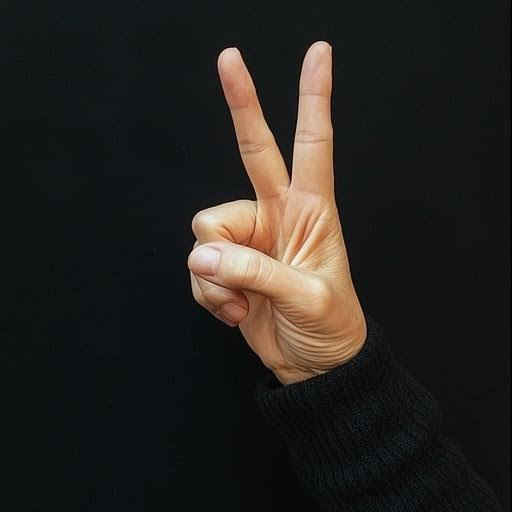peace_sign: (177, 36, 349, 350)
